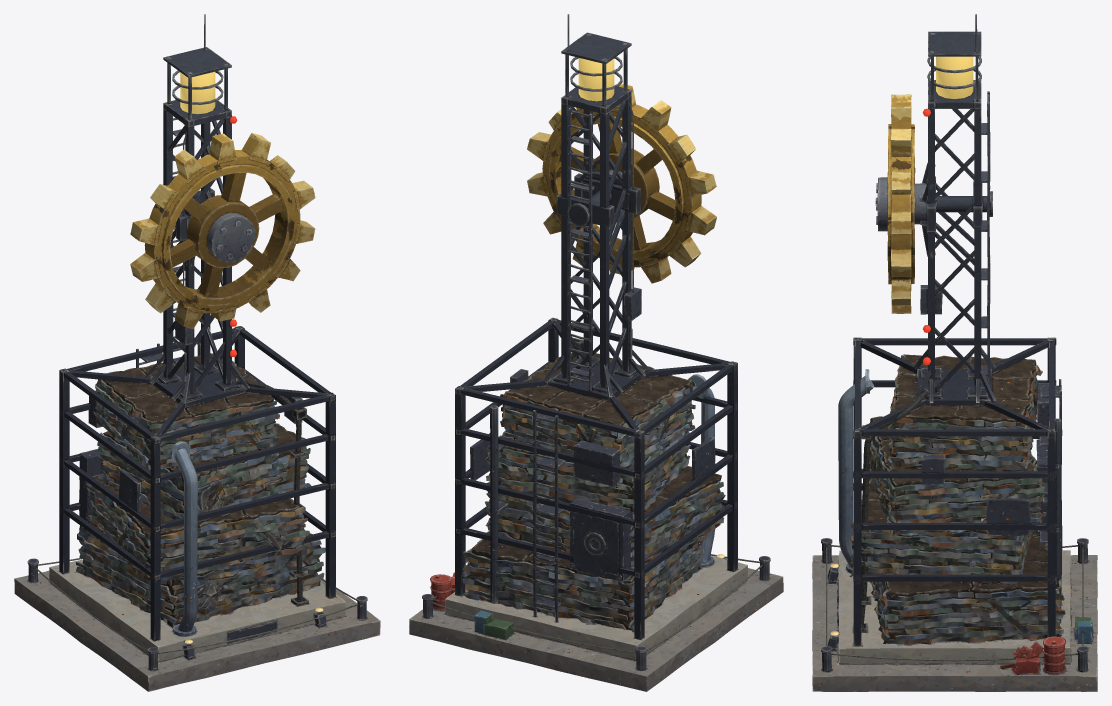
3 views of the same model, side by side, from view 1: azimuth 30°, elevation 25°; view 2: azimuth 150°, elevation 25°; view 3: azimuth 270°, elevation 25° (orthographic). The views are drawn at different scales.
Parts seen in each view (by area): view 1: Mast, SheetLayers, Plinth, BigCog, CrushedBlocks, Fittings, Pipes, PressedJunk, CogBoss, Cable, BeaconLamp, Cables (+1 smaller); view 2: Mast, SheetLayers, Plinth, Fittings, BigCog, CrushedBlocks, Supplies, BeaconLamp, Cables, Pipes, BaleStraps; view 3: Mast, SheetLayers, Plinth, CrushedBlocks, Fittings, BigCog, Pipes, Supplies, Cable, BeaconLamp, CogBoss, Cables (+1 smaller).
Part boxes in pixels (x1,y1,x2,y2): Mast: (59,47,335,641); SheetLayers: (76,363,325,623); Plinth: (14,559,380,691); BigCog: (130,133,315,329); CrushedBlocks: (84,353,312,627); Fittings: (27,14,367,670); Pipes: (170,441,197,636); PressedJunk: (117,414,289,615); CogBoss: (207,213,255,262); Cable: (235,378,308,606); BeaconLamp: (180,71,215,114); Cables: (35,131,358,653); Mast: (455,32,737,639); SheetLayers: (462,352,725,631); Plinth: (409,555,783,691); Fittings: (422,14,770,670); BigCog: (527,83,716,283); CrushedBlocks: (471,348,721,629); Supplies: (430,572,513,639); BeaconLamp: (578,58,614,101); Cables: (432,103,762,653); Pipes: (688,374,714,567); BaleStraps: (470,404,721,608); Mast: (853,31,1056,646); SheetLayers: (849,355,1065,644); Plinth: (812,550,1097,691); CrushedBlocks: (861,354,1057,644); Fittings: (821,14,1088,672); BigCog: (887,94,915,313); Pipes: (838,369,873,573); Supplies: (1000,616,1092,674); Cable: (853,389,928,632); BeaconLamp: (936,56,973,99); CogBoss: (875,177,926,231); Cables: (826,545,1083,661).
Bounding box in the file's own units: 16.07 × 38.87 × 16.04.
Materials: 16 (16 with a texture image).
